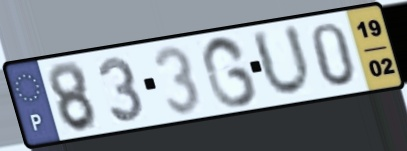0: (308, 21, 359, 88)
3: (153, 40, 205, 119), (96, 53, 146, 126)
8: (45, 59, 100, 134)
G: (199, 33, 261, 110)
U: (247, 21, 315, 100)
